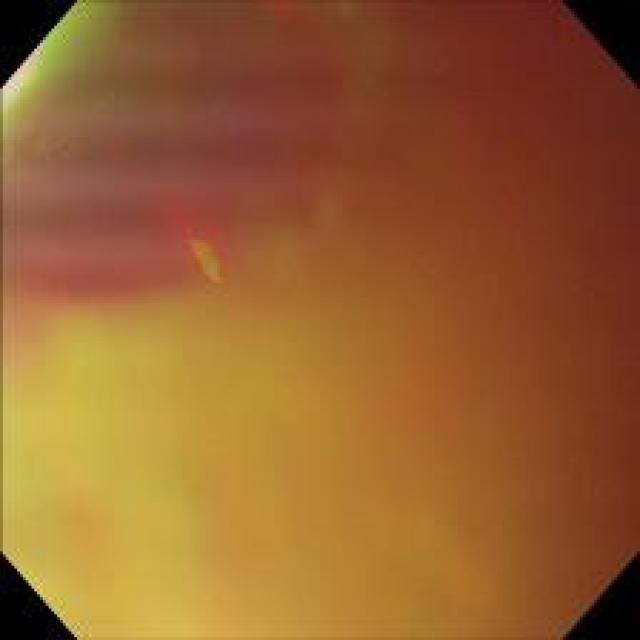color misalignment: (18, 6, 621, 621)
